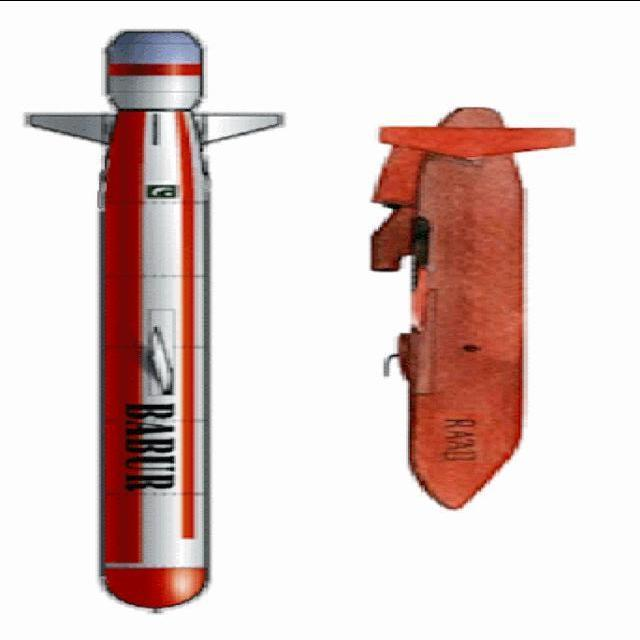missile: (19, 16, 294, 613)
